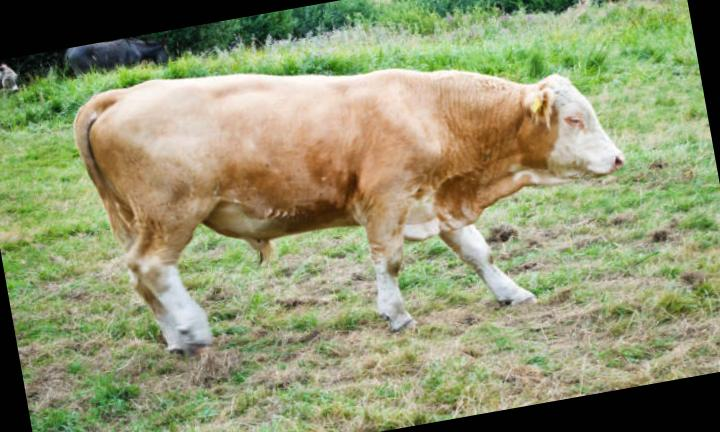Charolais: (75, 69, 625, 351)
